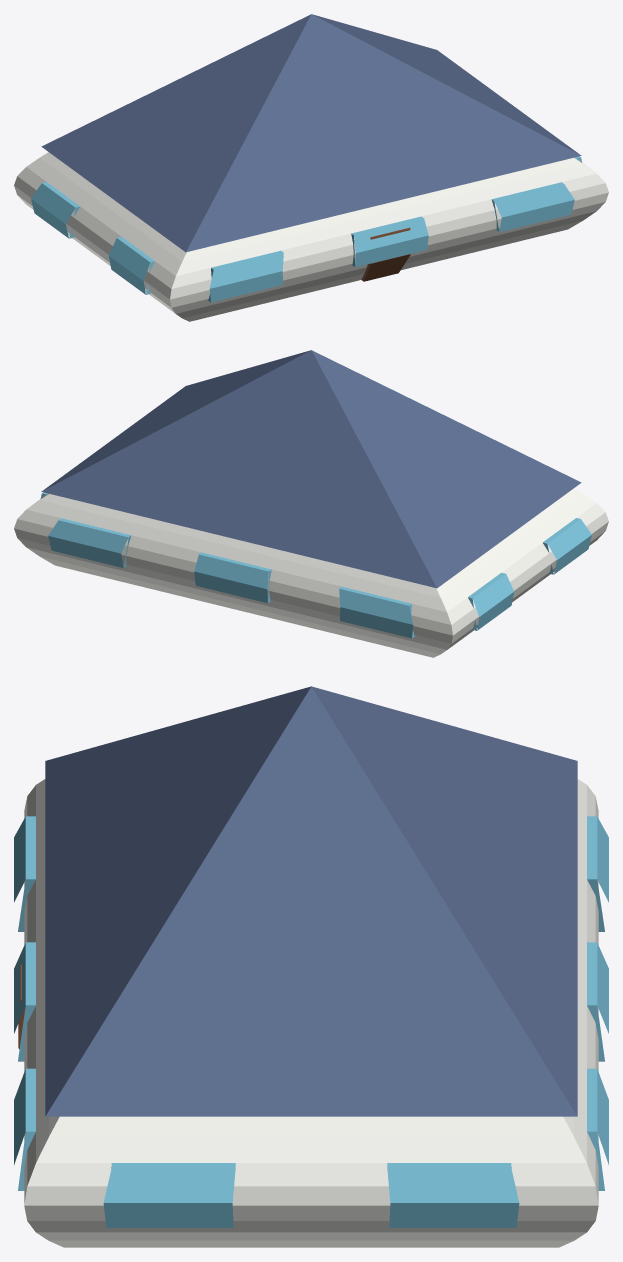
File: bungalow.glb
3 views of the same model, one above another, from view 1: azimuth 30°, elevation 25°; view 2: azimuth 150°, elevation 25°; view 3: azimuth 270°, elevation 25° (orthographic). The views are drawn at different scales.
Parts seen in each view (by area): view 1: bungalow_roof_slate, bungalow_offwhite, bungalow_window, bungalow_door; view 2: bungalow_roof_slate, bungalow_offwhite, bungalow_window; view 3: bungalow_roof_slate, bungalow_offwhite, bungalow_window.
Part boxes in pixels (x1,y1,x2,y2): bungalow_roof_slate: [41, 14, 581, 252]; bungalow_offwhite: [14, 152, 608, 321]; bungalow_window: [31, 156, 582, 302]; bungalow_door: [361, 227, 410, 281]; bungalow_roof_slate: [41, 350, 581, 588]; bungalow_offwhite: [14, 488, 608, 657]; bungalow_window: [40, 492, 591, 638]; bungalow_roof_slate: [45, 686, 577, 1116]; bungalow_offwhite: [24, 779, 598, 1247]; bungalow_window: [14, 816, 608, 1227].
Bounding box in the file's own units: 16.02 × 7.25 × 9.99.
